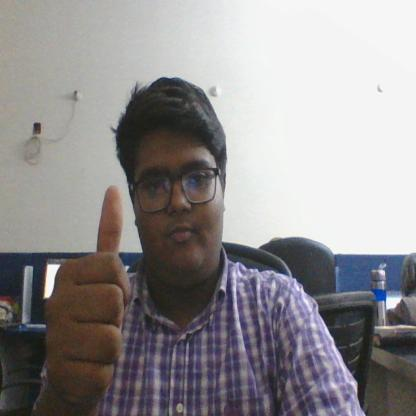thumbs-up: (44, 184, 138, 401)
